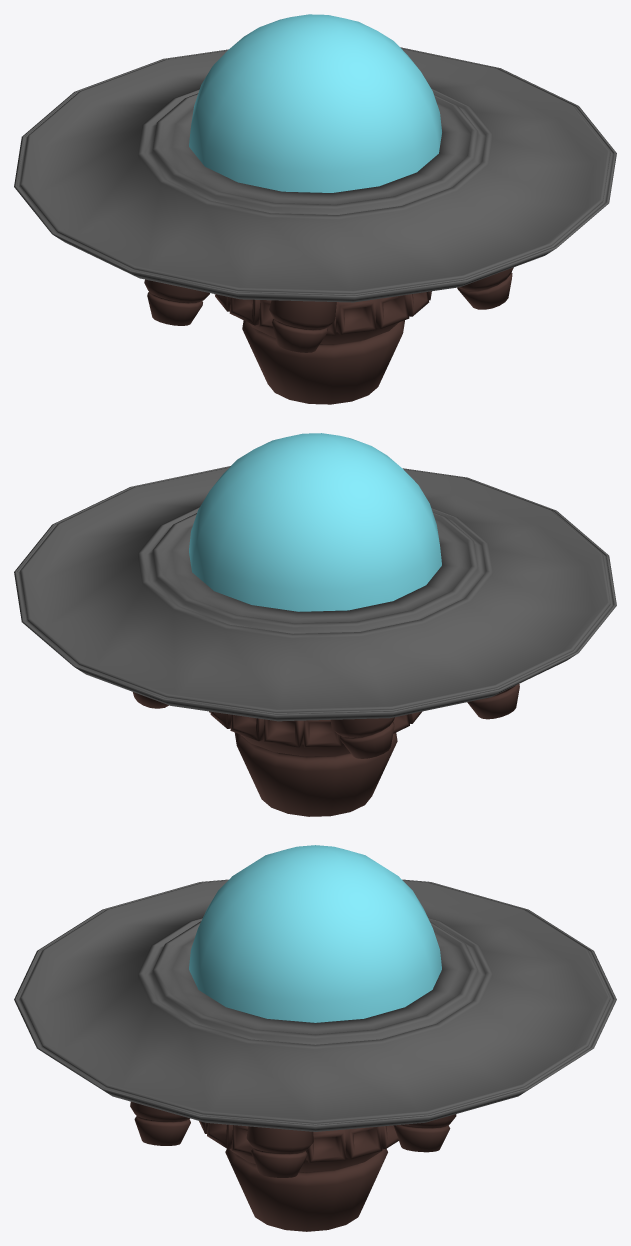
The model's file is ufo.glb.
3 views of the same model, one above another, from view 1: azimuth 30°, elevation 25°; view 2: azimuth 150°, elevation 25°; view 3: azimuth 270°, elevation 25° (orthographic).
Visible parts, largest first — view 1: Cylinder, Sphere, Circle.003, Circle.001; view 2: Cylinder, Sphere, Circle.003, Circle.001; view 3: Cylinder, Sphere, Circle.003, Circle.001.
Part boxes in pixels (x1=…): Cylinder: x1=14, y1=47, x2=616, y2=302; Sphere: x1=189, y1=14, x2=441, y2=192; Circle.003: x1=214, y1=291, x2=431, y2=404; Circle.001: x1=144, y1=267, x2=513, y2=352; Cylinder: x1=14, y1=466, x2=616, y2=721; Sphere: x1=189, y1=433, x2=441, y2=611; Circle.003: x1=209, y1=711, x2=422, y2=816; Circle.001: x1=133, y1=684, x2=519, y2=758; Cylinder: x1=14, y1=879, x2=616, y2=1131; Sphere: x1=189, y1=845, x2=441, y2=1022; Circle.003: x1=199, y1=1121, x2=398, y2=1231; Circle.001: x1=130, y1=1102, x2=456, y2=1177.
Size of the model in its own units: 2.03 by 1.3 by 2.03.
